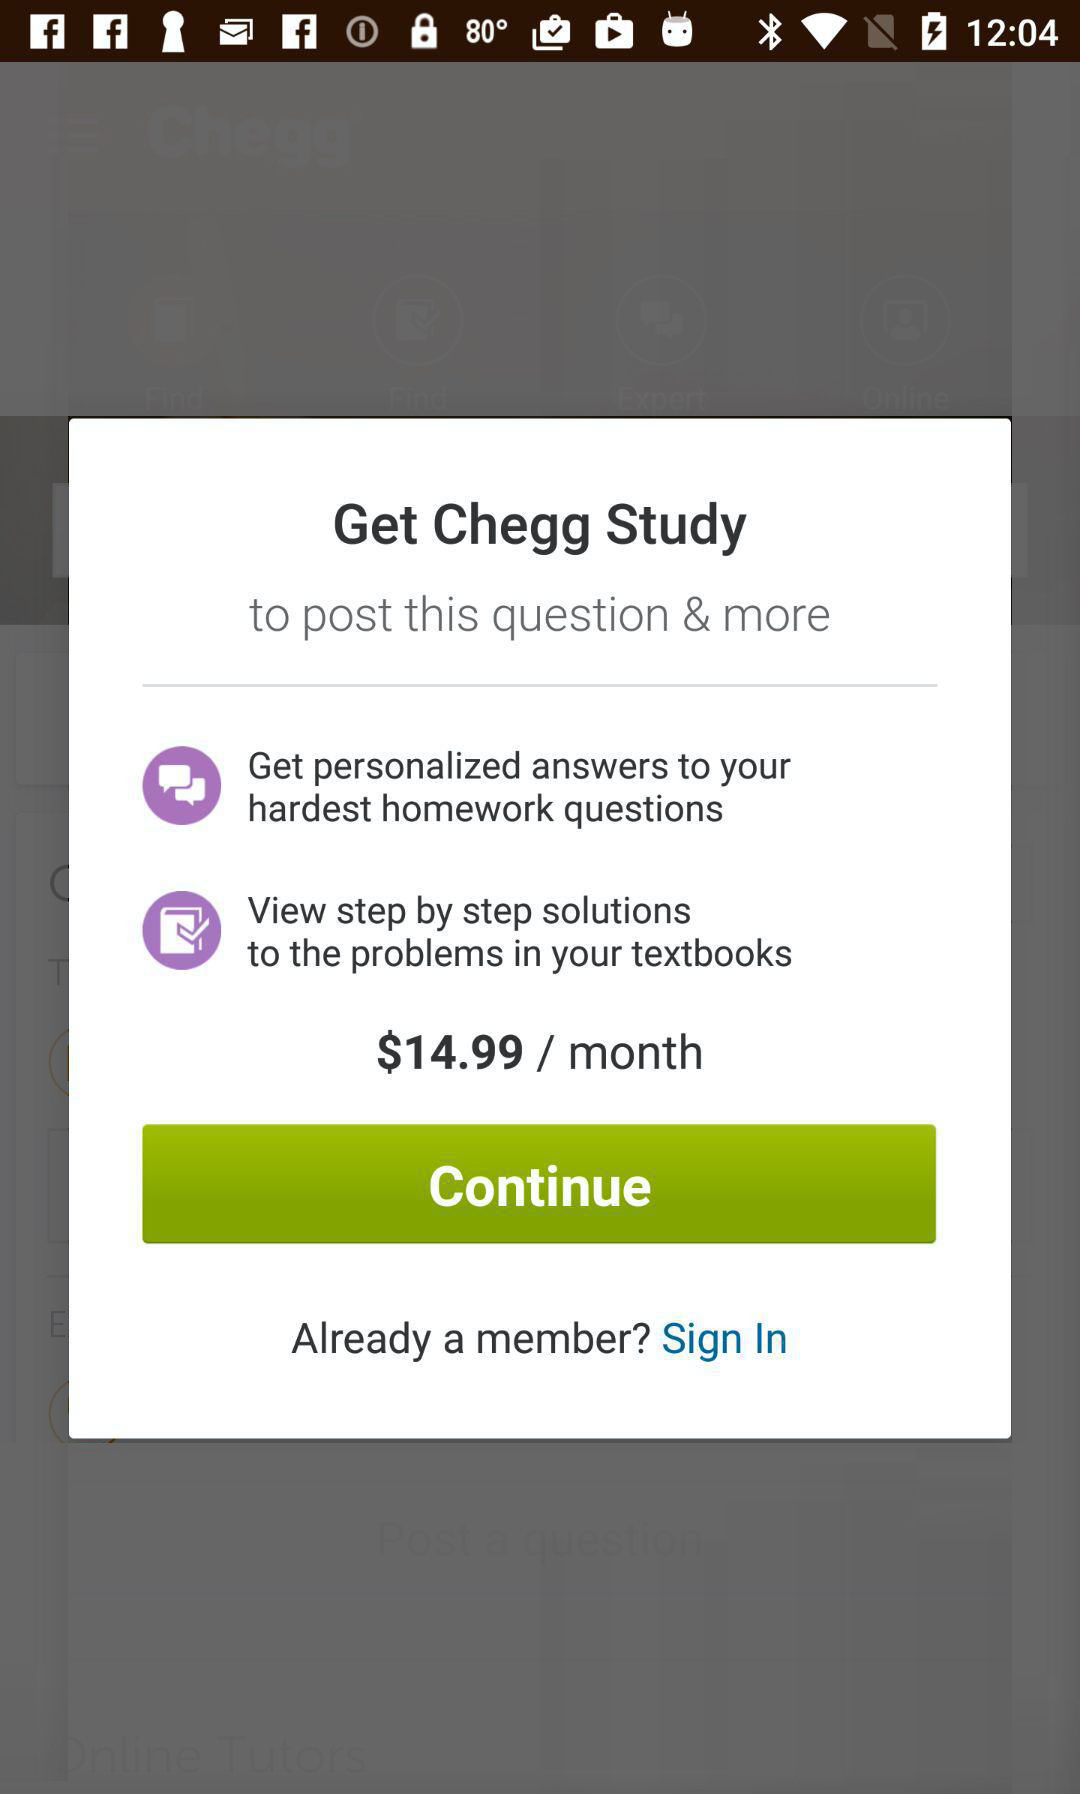Icon: (143, 747, 222, 827)
Image: (143, 891, 222, 970)
Modal: (69, 419, 1012, 1440)
Text: (249, 894, 792, 976), (250, 752, 790, 830), (249, 597, 829, 642), (334, 501, 747, 557), (292, 1321, 787, 1362)
TextButton: (143, 1124, 937, 1246)
UpperTaskBar: (1, 1, 1080, 64)
